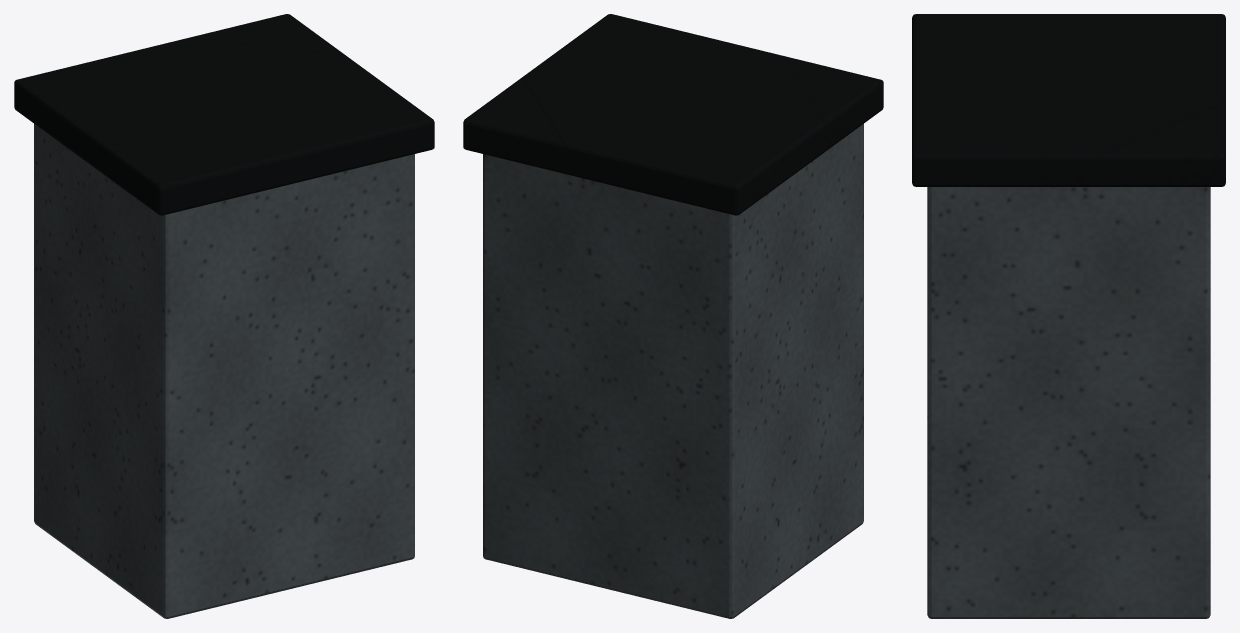
File: PROP-5233094C648C_lod0.glb
3 views of the same model, side by side, from view 1: azimuth 30°, elevation 25°; view 2: azimuth 150°, elevation 25°; view 3: azimuth 270°, elevation 25° (orthographic). The views are drawn at different scales.
Parts seen in each view (by area): view 1: waste_container.002, bin_lid.002; view 2: waste_container.002, bin_lid.002; view 3: waste_container.002, bin_lid.002.
Boxes of the visible parts, left/top/right/bottom form: waste_container.002: left=34, top=124, right=414, bottom=618; bin_lid.002: left=14, top=14, right=434, bottom=215; waste_container.002: left=483, top=124, right=863, bottom=618; bin_lid.002: left=463, top=14, right=883, bottom=215; waste_container.002: left=927, top=187, right=1210, bottom=618; bin_lid.002: left=912, top=14, right=1225, bottom=186.
Size of the model in its own units: 0.66 by 1.01 by 0.61.
Materials: 2 (2 with a texture image).
